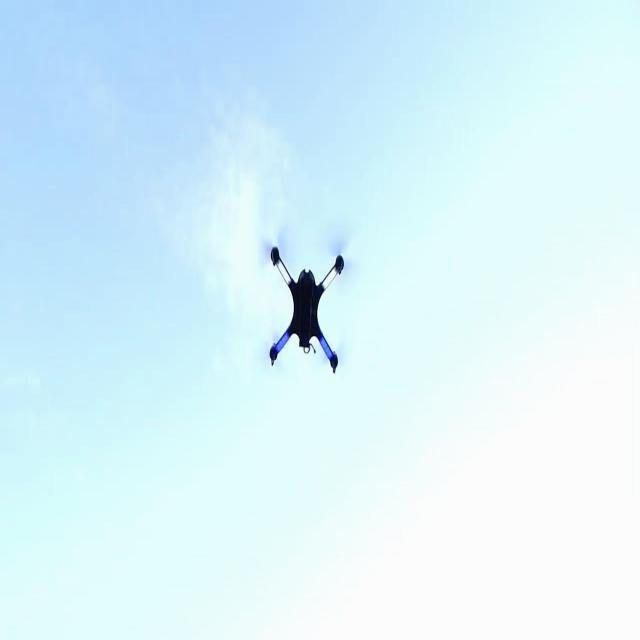drone: (268, 244, 344, 372)
